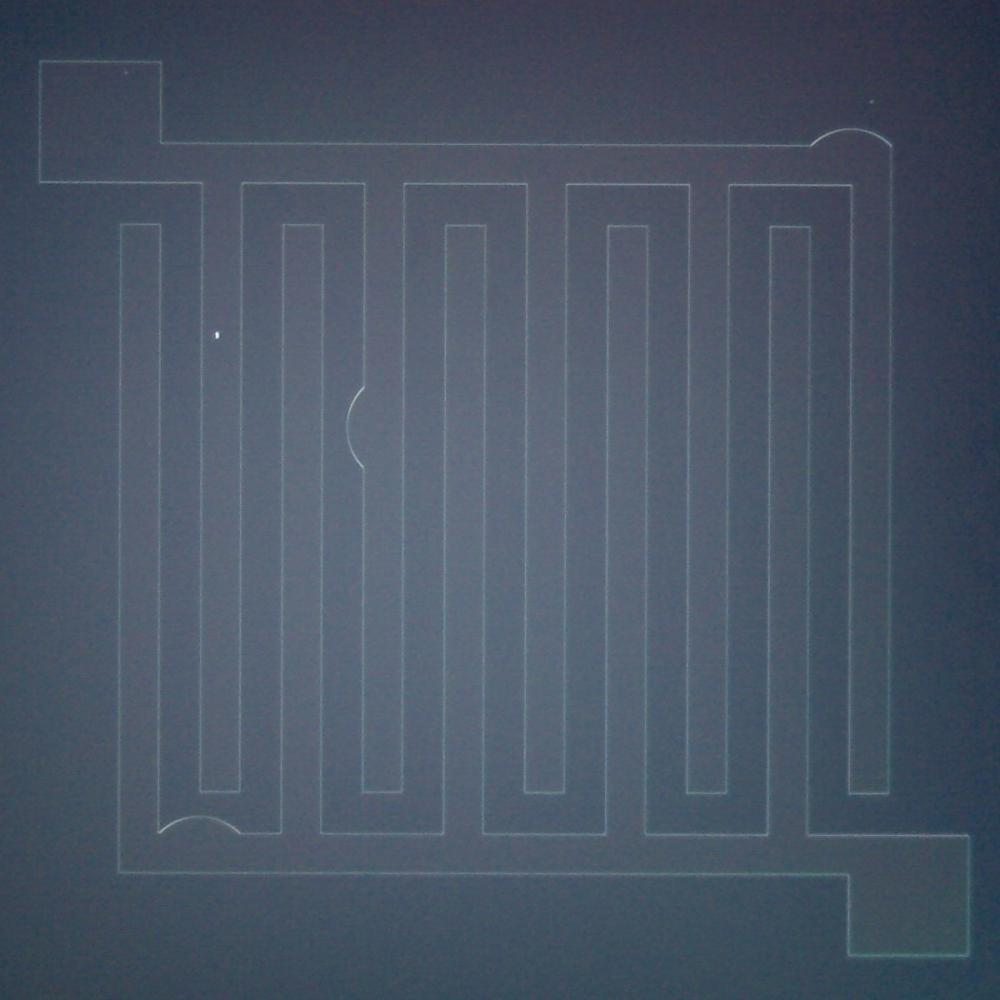curve circuit: (149, 807, 259, 847), (800, 117, 894, 163), (337, 372, 372, 482)
dot: (205, 318, 234, 352)
